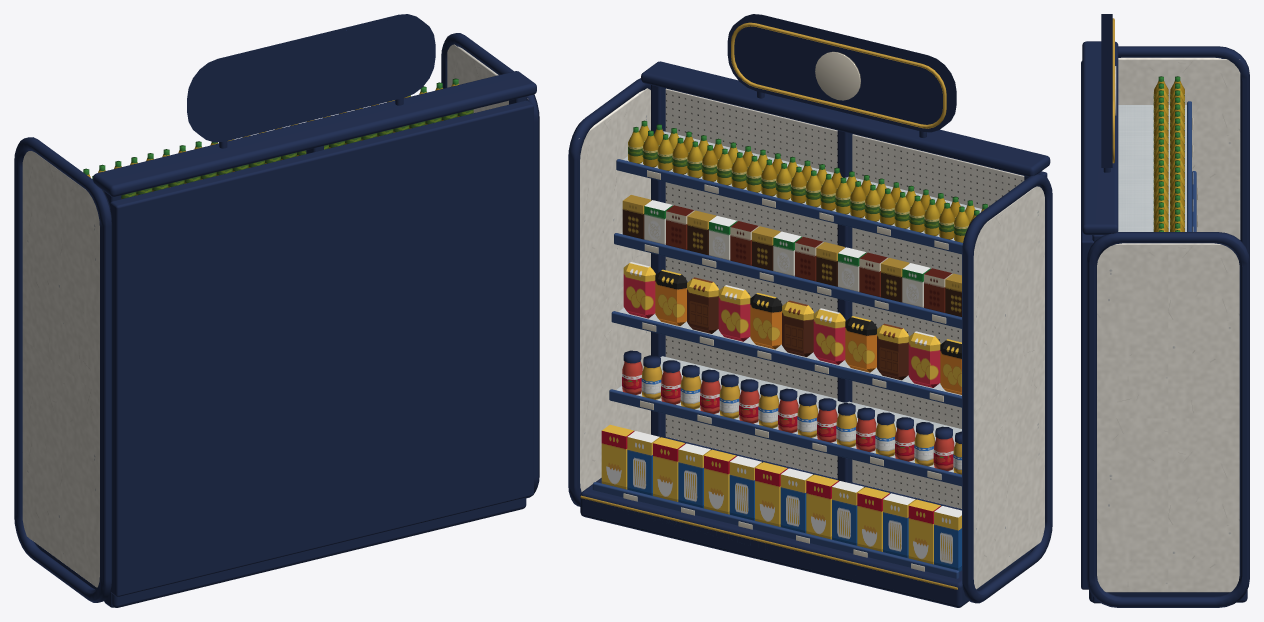
The model's file is shelf_T3.fbx.
The picture shows the model from 3 angles, left to right: view 1: azimuth 30°, elevation 25°; view 2: azimuth 150°, elevation 25°; view 3: azimuth 270°, elevation 25°; orthographic projection. The views are drawn at different scales.
Parts seen in each view (by area): view 1: Body, Anim Fill 2; view 2: Body, Anim Fill 2, Anim Fill 0, Anim Fill 1, Anim Fill 3; view 3: Body, Anim Fill 2, Anim Fill 1, Anim Fill 3, Anim Fill 0.
Part boxes in pixels (x1,y1,x2,y2): Body: (14, 14, 539, 607); Anim Fill 2: (162, 131, 280, 187); Body: (568, 14, 1052, 607); Anim Fill 2: (780, 164, 916, 551); Anim Fill 0: (601, 120, 723, 508); Anim Fill 1: (704, 142, 823, 526); Anim Fill 3: (883, 189, 987, 571); Body: (1081, 14, 1249, 607); Anim Fill 2: (1153, 111, 1184, 175); Anim Fill 1: (1153, 160, 1184, 217); Anim Fill 3: (1153, 76, 1184, 126); Anim Fill 0: (1153, 202, 1184, 231).
Bounding box in the file's own units: 1.99 × 2.23 × 0.745.
